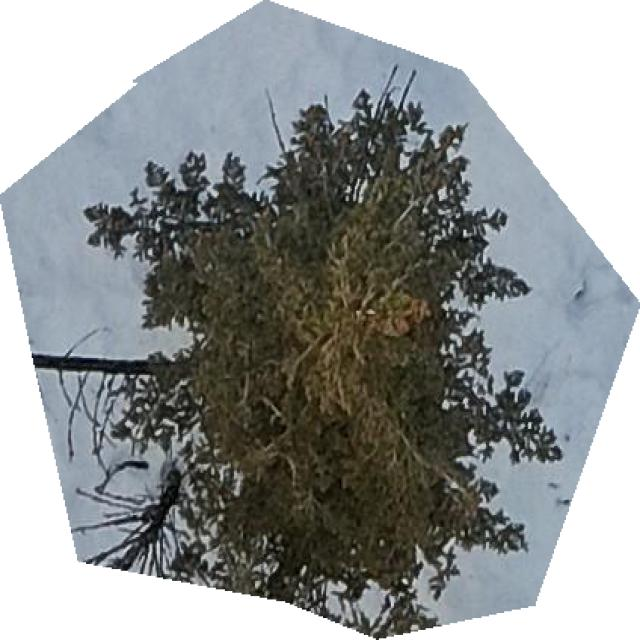spruce: (63, 91, 562, 638)
